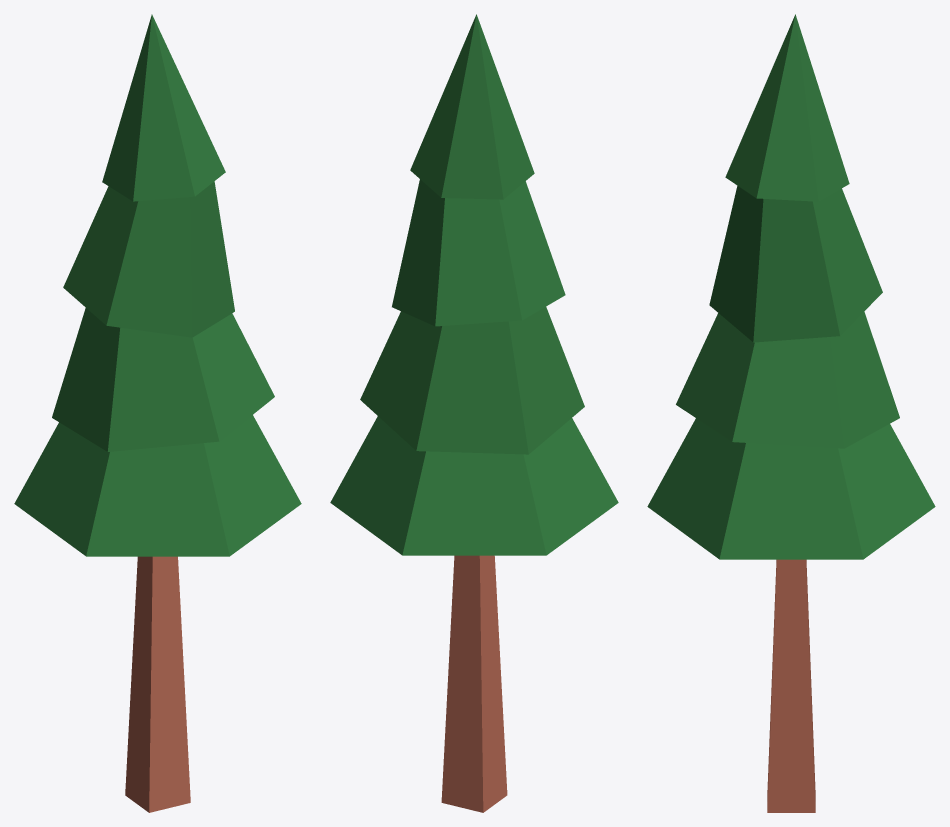
File: tree_pineTallC.glb
The picture shows the model from 3 angles, left to right: view 1: azimuth 30°, elevation 25°; view 2: azimuth 150°, elevation 25°; view 3: azimuth 270°, elevation 25°; orthographic projection.
Parts seen in each view (by area): view 1: tree_pineTallC; view 2: tree_pineTallC; view 3: tree_pineTallC.
Boxes of the visible parts, box(x1,y1,x2,y2) form: tree_pineTallC: box(14, 14, 301, 812); tree_pineTallC: box(330, 14, 618, 812); tree_pineTallC: box(647, 14, 935, 812).
Size of the model in its own units: 0.4804 by 1.67 by 0.5547.
